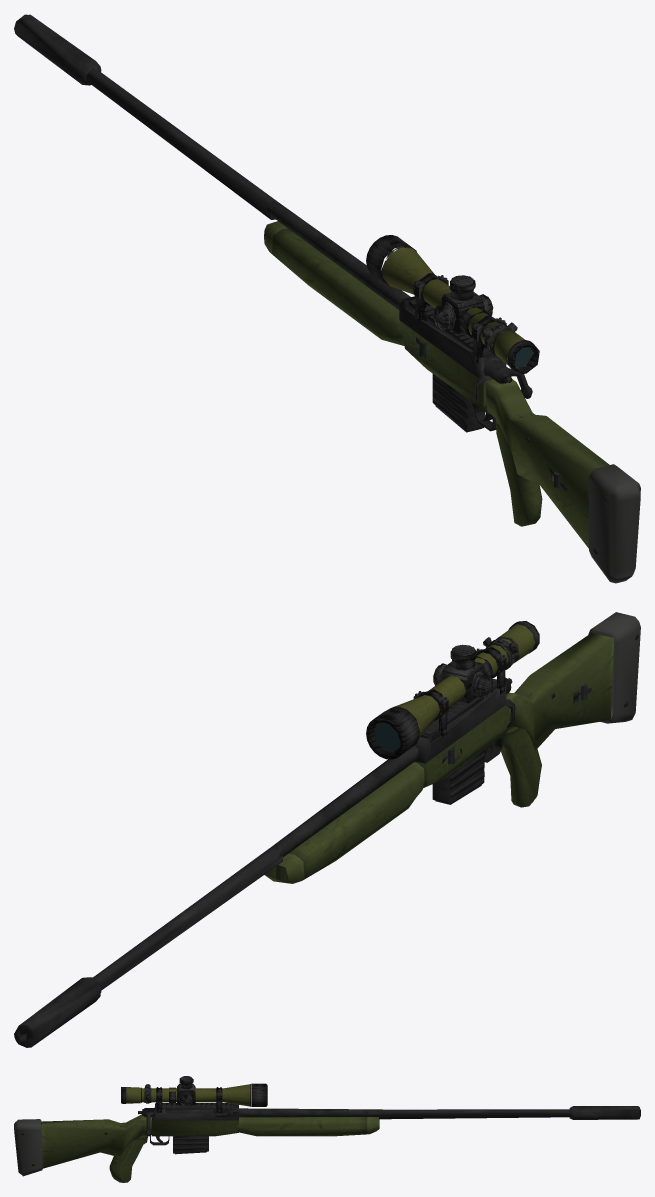
The model's file is awp-world.glb.
The picture shows the model from 3 angles, top to bottom: view 1: azimuth 30°, elevation 25°; view 2: azimuth 150°, elevation 25°; view 3: azimuth 270°, elevation 25°; orthographic projection. The views are drawn at different scales.
Visible parts, largest first — view 1: StockGeometry, ReceiverGeometry, ScopeGeometry, MagazineGeometry; view 2: StockGeometry, ReceiverGeometry, ScopeGeometry, MagazineGeometry; view 3: StockGeometry, ReceiverGeometry, ScopeGeometry, MagazineGeometry, BoltGeometry.
Part boxes in pixels (left/top/right/bottom): StockGeometry: left=264, top=221, right=640, bottom=583; ReceiverGeometry: left=14, top=14, right=606, bottom=553; ScopeGeometry: left=366, top=235, right=539, bottom=373; MagazineGeometry: left=432, top=374, right=484, bottom=432; StockGeometry: left=264, top=612, right=640, bottom=883; ReceiverGeometry: left=14, top=634, right=638, bottom=1047; ScopeGeometry: left=366, top=621, right=539, bottom=759; MagazineGeometry: left=432, top=750, right=484, bottom=804; StockGeometry: left=14, top=1114, right=379, bottom=1182; ReceiverGeometry: left=21, top=1084, right=640, bottom=1165; ScopeGeometry: left=121, top=1076, right=267, bottom=1112; MagazineGeometry: left=173, top=1136, right=208, bottom=1154; BoltGeometry: left=138, top=1107, right=215, bottom=1117.
Size of the model in its own units: 0.135 by 0.4277 by 2.37.
6 materials, 4 textured.
